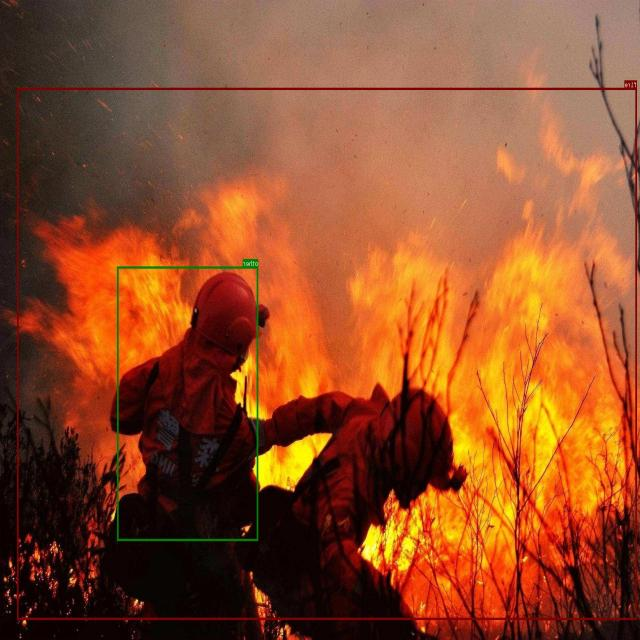fire: (18, 88, 638, 620)
other: (118, 266, 258, 540)
